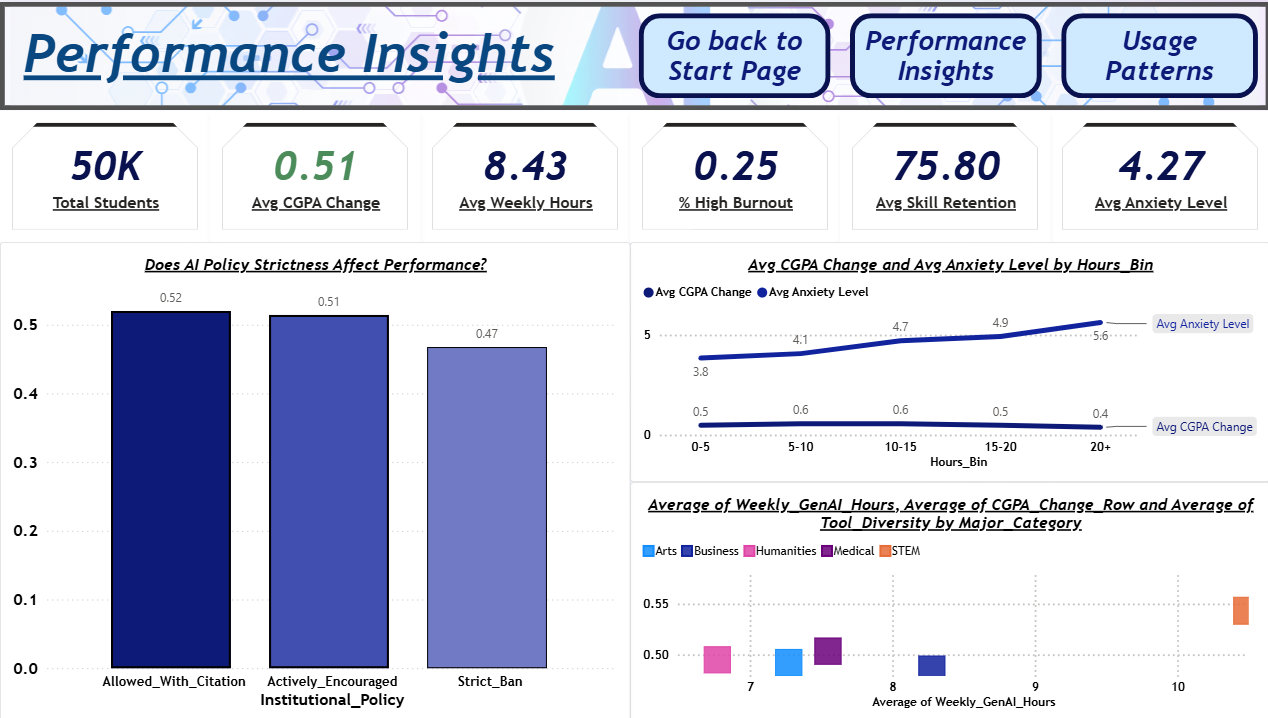

The dashboard page shown, as its layout file describes it:
{"tool":"powerbi","page":{"name":"Visuals Page 1","canvas":[1270,720],"ordinal":1},"visuals":[{"type":"cardVisual","fields":{"Data":["ai_student_impact_dataset.Total Students"]},"box":[0,108.3,210,131.7],"z":0},{"type":"cardVisual","fields":{"Data":["ai_student_impact_dataset.Avg Anxiety Level"]},"box":[1050,108.3,220,131.7],"z":1000},{"type":"cardVisual","fields":{"Data":["ai_student_impact_dataset.Avg Weekly Hours"]},"box":[420,108.3,210,131.7],"z":2000},{"type":"cardVisual","fields":{"Data":["ai_student_impact_dataset.% High Burnout"]},"box":[630,108.3,210,131.7],"z":3000},{"type":"cardVisual","fields":{"Data":["ai_student_impact_dataset.Avg Skill Retention"]},"box":[840,108.3,210,131.7],"z":4000},{"type":"cardVisual","fields":{"Data":["ai_student_impact_dataset.Avg CGPA Change"]},"box":[210,108.3,210,131.7],"z":5000},{"type":"image","box":[0,0,1270,108.3],"z":6000},{"type":"actionButton","box":[850,11.7,191.7,85],"z":7000},{"type":"actionButton","box":[1061.7,11.7,196.7,85],"z":8000},{"type":"textbox","box":[0,15,578.3,81.7],"z":9000},{"type":"actionButton","box":[638.3,11.7,191.7,85],"z":10000},{"type":"lineChart","fields":{"Category":["ai_student_impact_dataset.Hours_Bin"],"Y":["ai_student_impact_dataset.Avg CGPA Change","ai_student_impact_dataset.Avg Anxiety Level"]},"box":[630,240,640,240],"z":11000},{"type":"scatterChart","fields":{"X":["Avg(ai_student_impact_dataset.Weekly_GenAI_Hours)"],"Y":["Avg(ai_student_impact_dataset.CGPA_Change_Row)"],"Size":["Avg(ai_student_impact_dataset.Tool_Diversity)"],"Series":["ai_student_impact_dataset.Major_Category"]},"box":[630,480,640,240],"z":12000},{"type":"clusteredColumnChart","title":"Does AI Policy Strictness Affect Performance?","fields":{"Category":["ai_student_impact_dataset.Institutional_Policy"],"Y":["ai_student_impact_dataset.Avg CGPA Change"]},"box":[0,240,630,480],"z":13000}]}

Visuals, with their boxes in screenshot pixels (x1, y1, x2, y2), scaled from the page's 1270x720 canvas onto the 1268x718 screenshot:
cardVisual - ai_student_impact_dataset.Total Students: detection(0, 108, 210, 239)
cardVisual - ai_student_impact_dataset.Avg Anxiety Level: detection(1048, 108, 1267, 239)
cardVisual - ai_student_impact_dataset.Avg Weekly Hours: detection(419, 108, 629, 239)
cardVisual - ai_student_impact_dataset.% High Burnout: detection(629, 108, 839, 239)
cardVisual - ai_student_impact_dataset.Avg Skill Retention: detection(839, 108, 1048, 239)
cardVisual - ai_student_impact_dataset.Avg CGPA Change: detection(210, 108, 419, 239)
image: detection(0, 0, 1267, 108)
actionButton: detection(849, 12, 1040, 96)
actionButton: detection(1060, 12, 1256, 96)
textbox: detection(0, 15, 577, 96)
actionButton: detection(637, 12, 829, 96)
lineChart - ai_student_impact_dataset.Hours_Bin x ai_student_impact_dataset.Avg CGPA Change: detection(629, 239, 1267, 479)
scatterChart - Avg(ai_student_impact_dataset.Weekly_GenAI_Hours) x Avg(ai_student_impact_dataset.CGPA_Change_Row): detection(629, 479, 1267, 717)
"Does AI Policy Strictness Affect Performance?" clusteredColumnChart: detection(0, 239, 629, 717)
